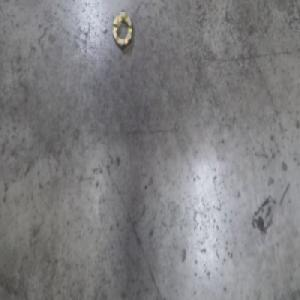Nut: (111, 9, 133, 49)
